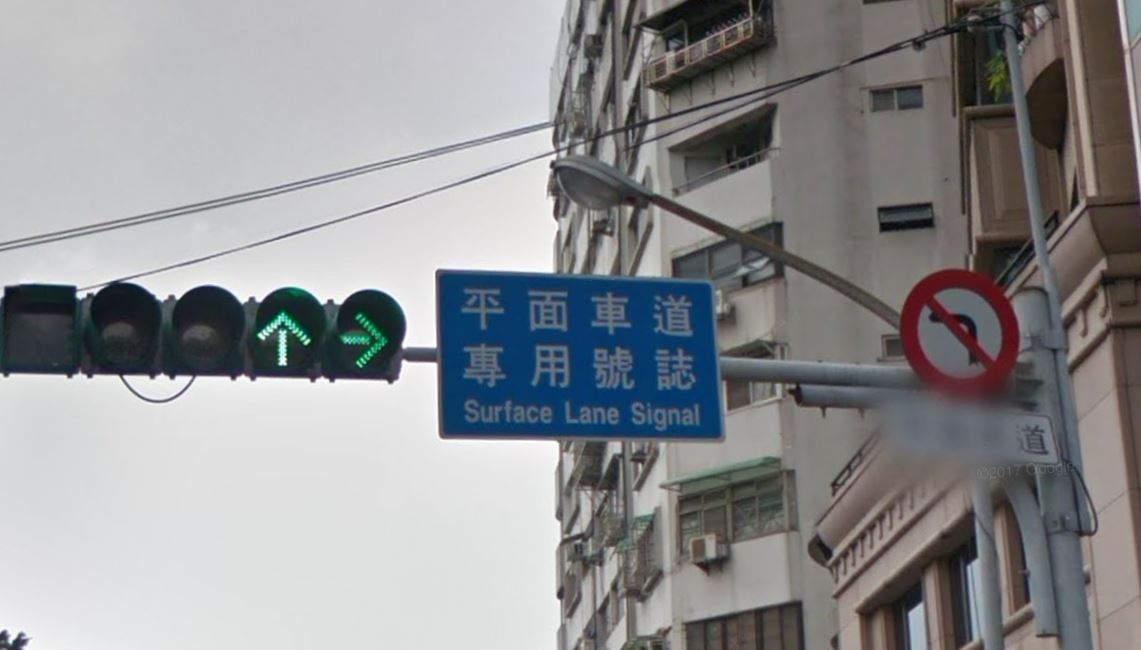No_left_turn: (900, 268, 1019, 395)
Traffic_light_green: (85, 284, 405, 385)
